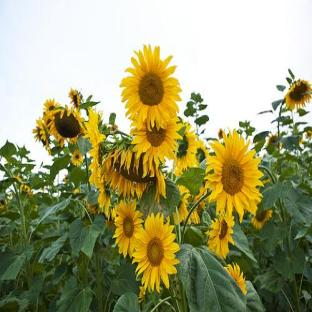sunflower: (119, 45, 182, 134)
